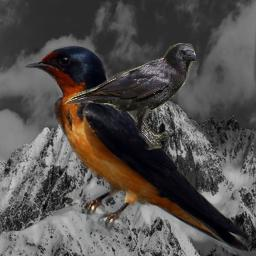Crow: (61, 43, 196, 150)
Swallow: (22, 45, 251, 256)
